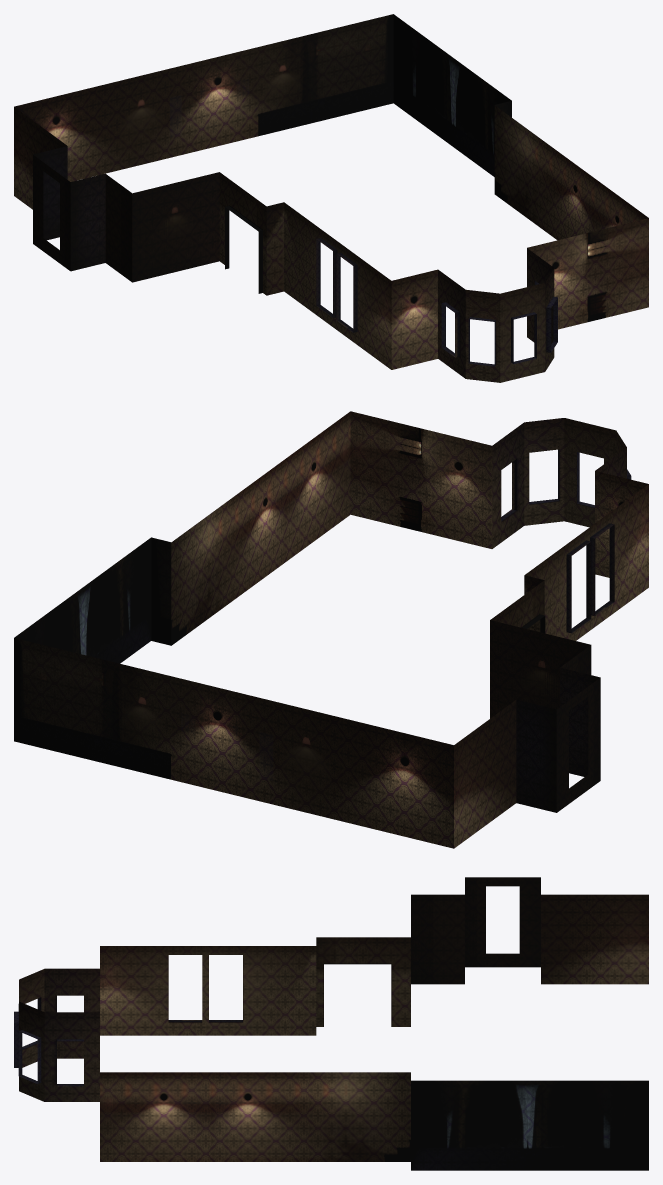
File: downstairswalls.obj
3 renders of one model, top to bottom at view 1: azimuth 30°, elevation 25°; view 2: azimuth 150°, elevation 25°; view 3: azimuth 270°, elevation 25°, orthographic. The views are drawn at different scales.
Visible parts, largest first — view 1: downstairswalls1 ExportGeo; view 2: downstairswalls1 ExportGeo; view 3: downstairswalls1 ExportGeo.
Boxes of the visible parts, bbox=[...] form: downstairswalls1 ExportGeo: bbox=[14, 14, 648, 382]; downstairswalls1 ExportGeo: bbox=[14, 411, 648, 848]; downstairswalls1 ExportGeo: bbox=[14, 877, 648, 1170].
Size of the model in its own units: 15.06 by 3.1 by 19.87.
1 material, 1 textured.
